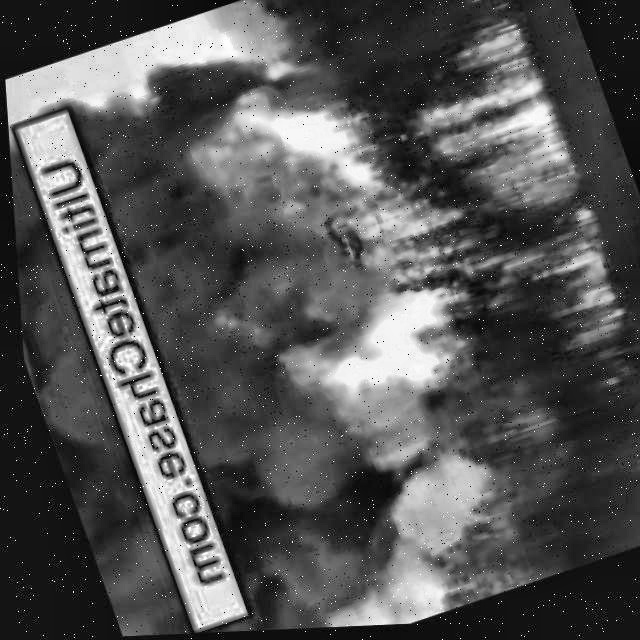Fire: (185, 22, 628, 437), (634, 431, 640, 519)
Smoke: (64, 65, 368, 638), (6, 113, 194, 640)
